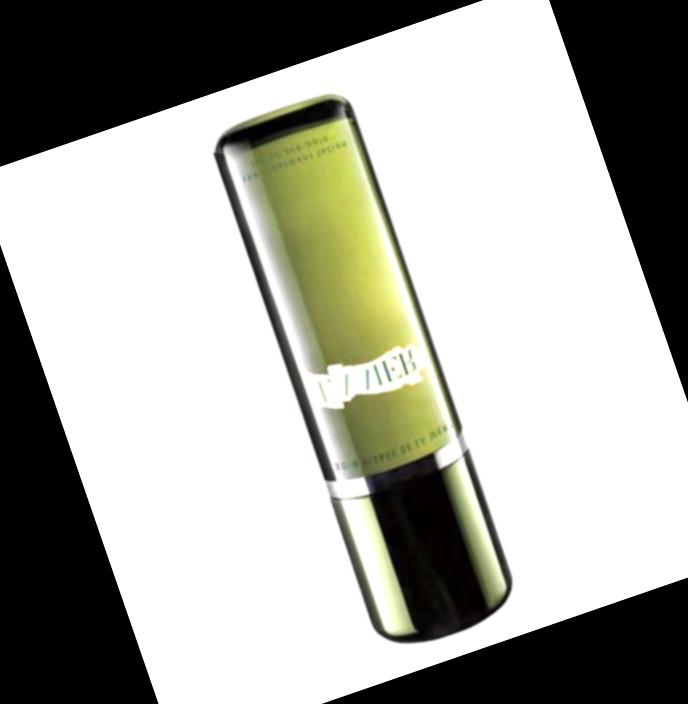cosmetic: (206, 86, 530, 650)
